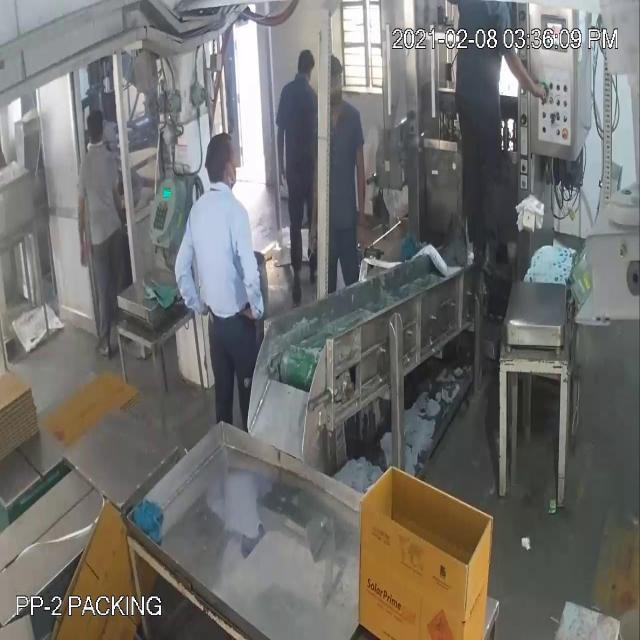No_Gloves: (21, 60, 526, 274)
